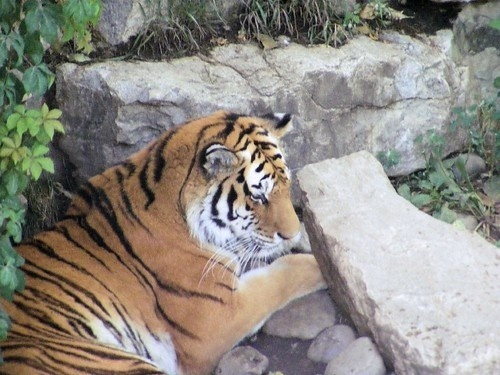tigre: (1, 107, 328, 374)
